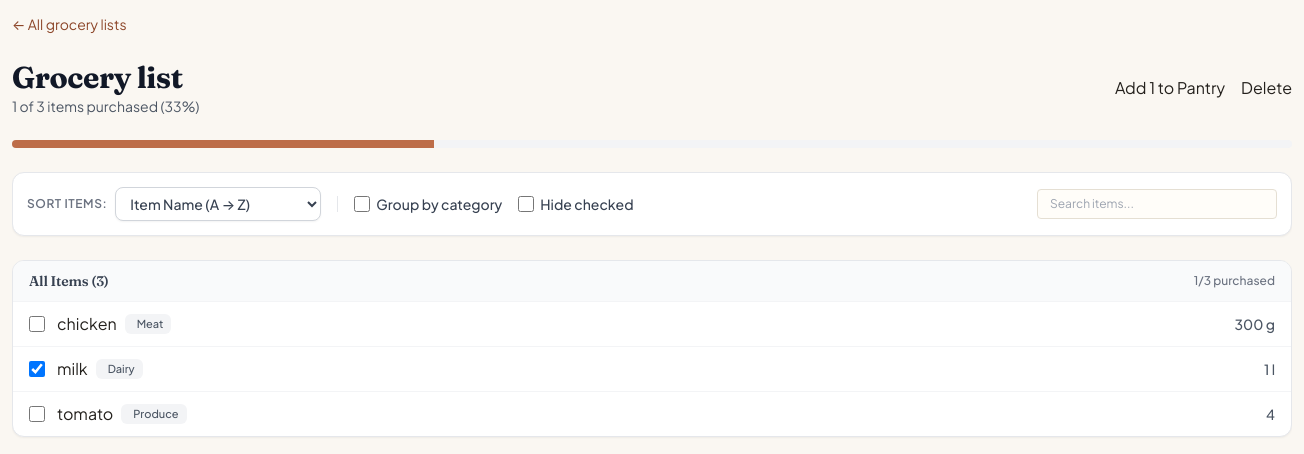
Test case: GroceryDetailPage › filters grocery items by search query
This screenshot has width=1304, height=454.
Expected: the text "tomato" is shown, 57,402 -> 113,426
Step 1. Type "tom" into the field with placeholder "Search items..." → (1157, 204), box 1037,189 -> 1277,219
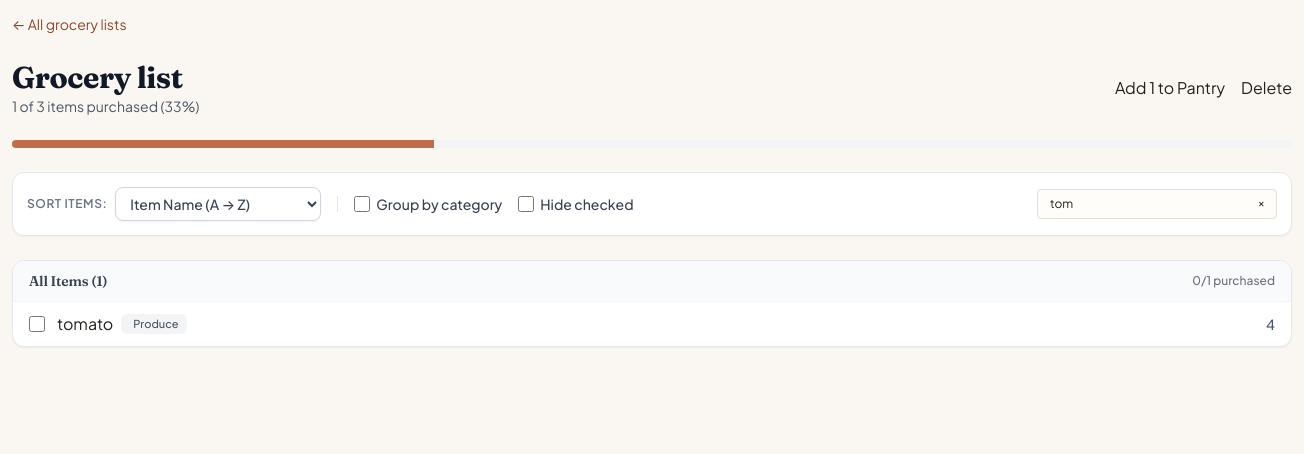
Expected: the text "tomato" is shown, 57,312 -> 113,336
Result: the text "chicken" is gone
Result: the text "milk" is gone
